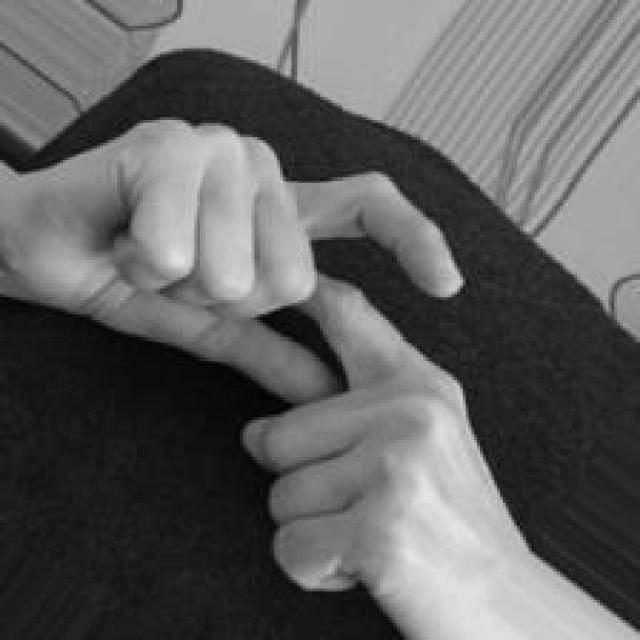G: (1, 112, 535, 640)
